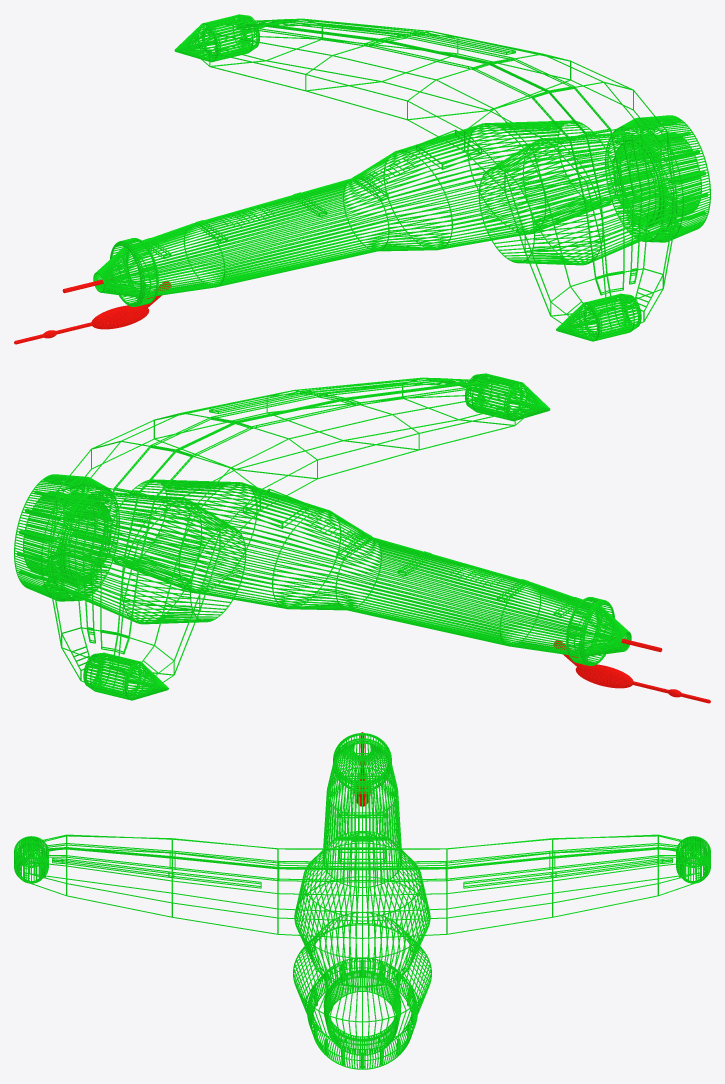
The model's file is fleet-battleship-highlight-antenna-and-field-sensor.glb.
3 renders of one model, top to bottom at view 1: azimuth 30°, elevation 25°; view 2: azimuth 150°, elevation 25°; view 3: azimuth 270°, elevation 25°, orthographic. The views are drawn at different scales.
Visible parts, largest first — view 1: chassis technical wire, rear-thruster technical wire, wingtip-directional-thrusters technical wire, antenna-and-field-sensor technical wire; view 2: chassis technical wire, rear-thruster technical wire, wingtip-directional-thrusters technical wire, antenna-and-field-sensor technical wire; view 3: chassis technical wire, rear-thruster technical wire, wingtip-directional-thrusters technical wire.
Part boxes in pixels (left/top/right/bottom): chassis technical wire: left=93, top=18, right=677, bottom=337; rear-thruster technical wire: left=605, top=115, right=710, bottom=242; wingtip-directional-thrusters technical wire: left=174, top=14, right=641, bottom=341; antenna-and-field-sensor technical wire: left=14, top=277, right=171, bottom=344; chassis technical wire: left=47, top=377, right=631, bottom=696; rear-thruster technical wire: left=14, top=474, right=119, bottom=601; wingtip-directional-thrusters technical wire: left=83, top=373, right=550, bottom=700; antenna-and-field-sensor technical wire: left=553, top=636, right=710, bottom=703; chassis technical wire: left=24, top=733, right=700, bottom=1044; rear-thruster technical wire: left=307, top=957, right=417, bottom=1069; wingtip-directional-thrusters technical wire: left=14, top=836, right=710, bottom=883.
Size of the model in its own units: 4.75 by 1.17 by 4.95.
